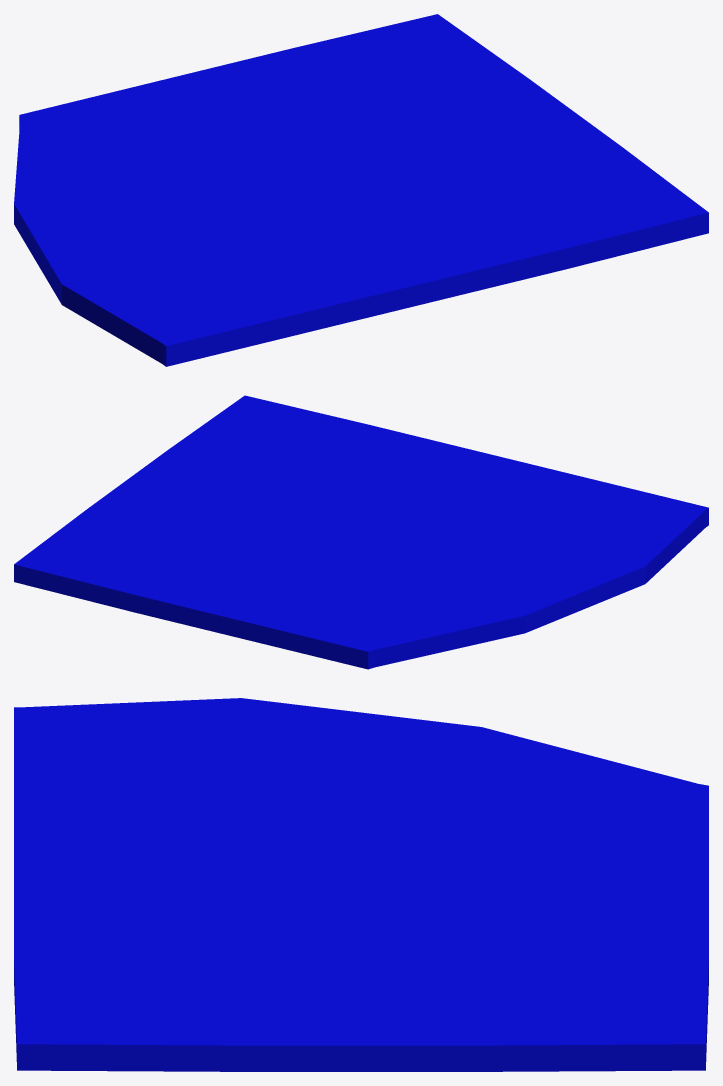
The model's file is komono24.fbx.
3 renders of one model, top to bottom at view 1: azimuth 30°, elevation 25°; view 2: azimuth 150°, elevation 25°; view 3: azimuth 270°, elevation 25°, orthographic. The views are drawn at different scales.
Visible parts, largest first — view 1: Cube.010; view 2: Cube.010; view 3: Cube.010.
Boxes of the visible parts, x1,y1,x2,y2 form: Cube.010: (14,14,708,366); Cube.010: (14,395,708,669); Cube.010: (14,698,708,1071).
Bounding box in the file's own units: 105 × 3.72 × 89.
